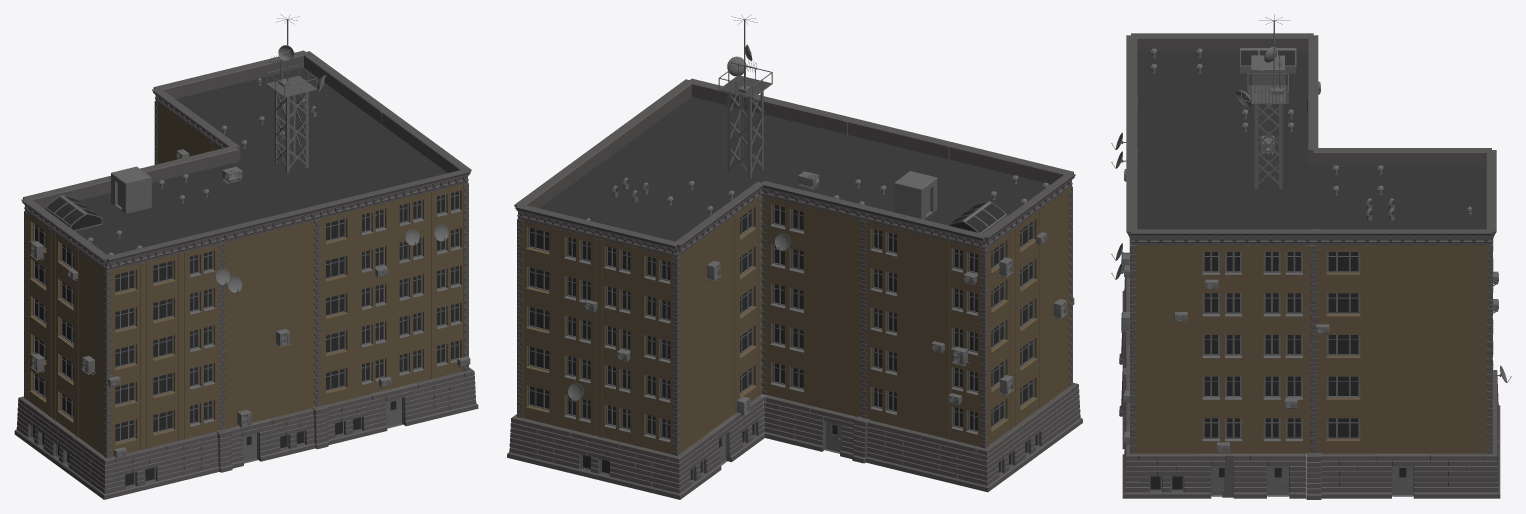
The model's file is building_3.fbx.
3 views of the same model, side by side, from view 1: azimuth 30°, elevation 25°; view 2: azimuth 150°, elevation 25°; view 3: azimuth 270°, elevation 25° (orthographic). The views are drawn at different scales.
Parts seen in each view (by area): view 1: building_base; view 2: building_base; view 3: building_base.
Part boxes in pixels (x1,y1,x2,y2): building_base: [14, 14, 478, 499]; building_base: [507, 14, 1082, 499]; building_base: [1111, 14, 1511, 499].
Bounding box in the file's own units: 3171 × 3004 × 2615.
